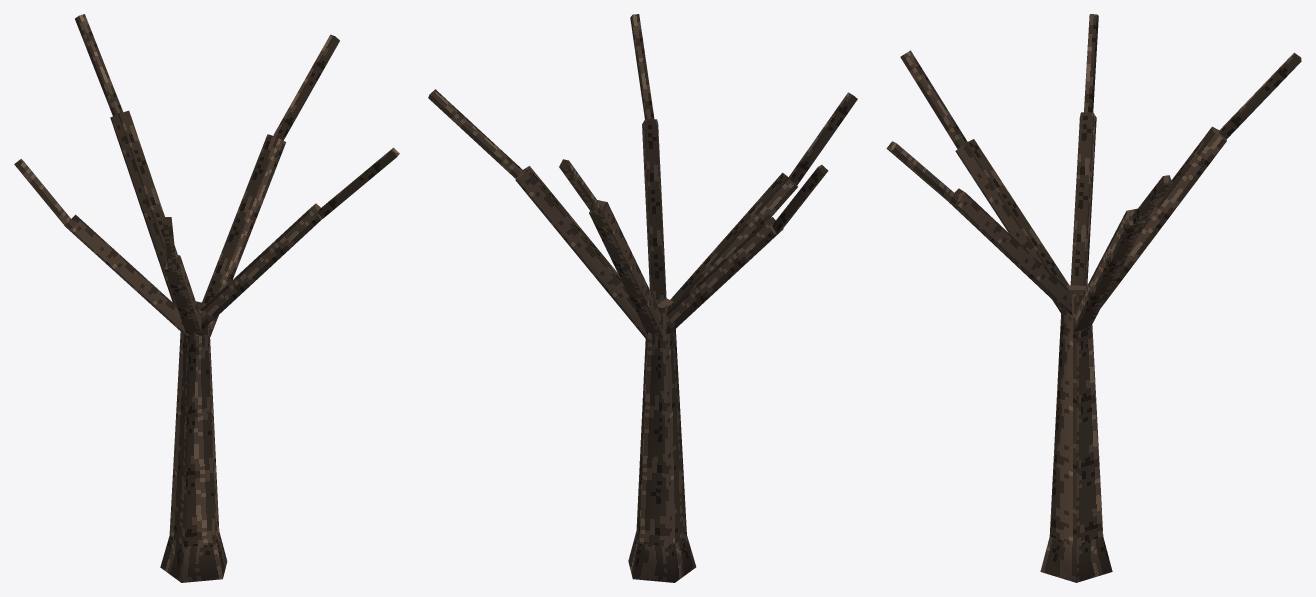
File: mnat.dead_tree.glb
The picture shows the model from 3 angles, left to right: view 1: azimuth 30°, elevation 25°; view 2: azimuth 150°, elevation 25°; view 3: azimuth 270°, elevation 25°; orthographic projection. The views are drawn at different scales.
Visible parts, largest first — view 1: kit_trunk; view 2: kit_trunk; view 3: kit_trunk.
Boxes of the visible parts, x1,y1,x2,y2 form: kit_trunk: (14, 14, 399, 582); kit_trunk: (428, 14, 857, 582); kit_trunk: (886, 14, 1301, 582).
Bounding box in the file's own units: 4.64 × 5.96 × 4.42.
Materials: 1 (1 with a texture image).
